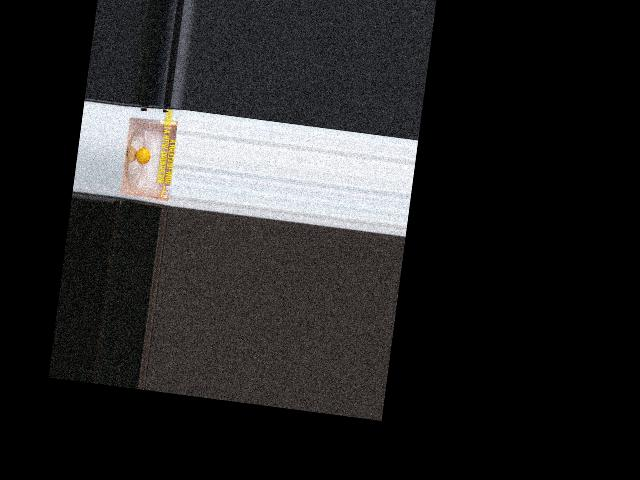lemon: (132, 138, 154, 166)
